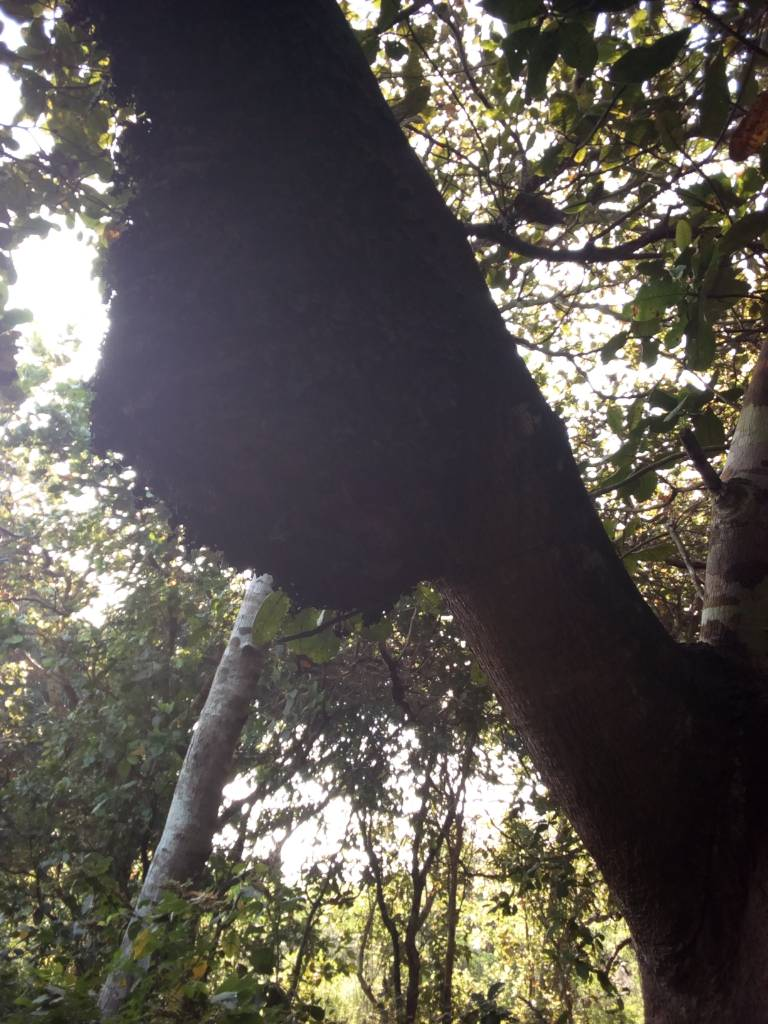Termites: (94, 200, 457, 611)
